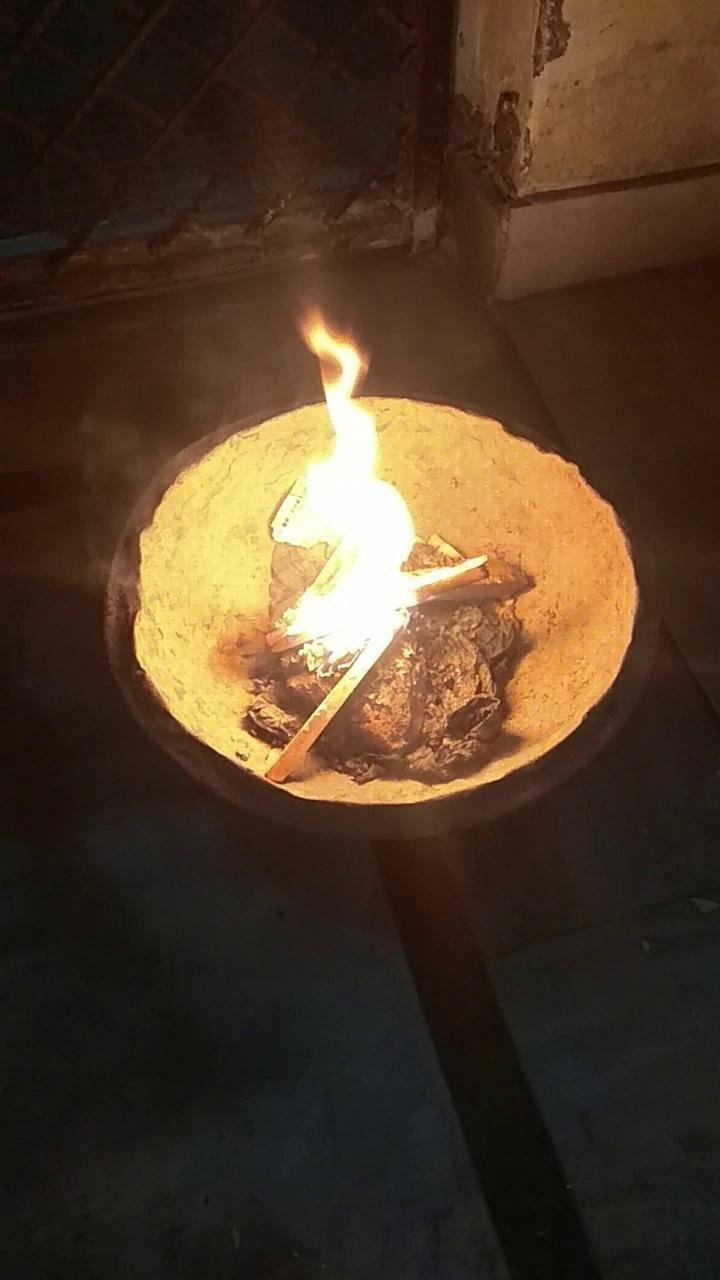fire: (248, 322, 425, 660)
